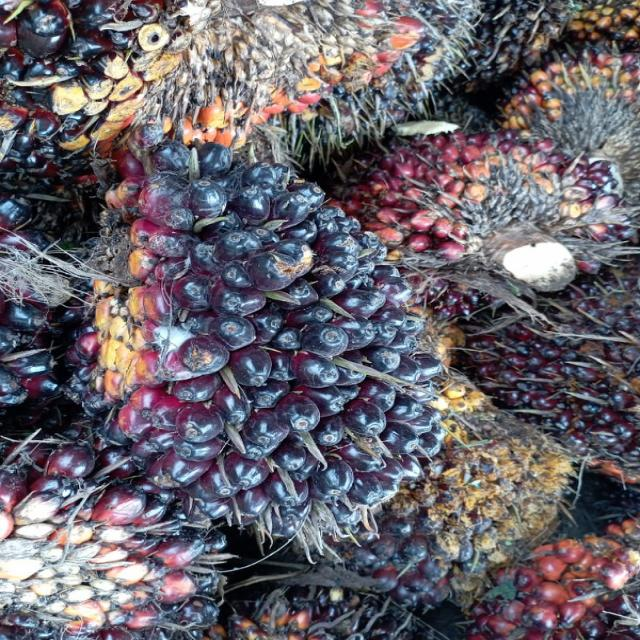fraksi 00: (85, 133, 457, 538)
fraksi 1: (354, 79, 614, 296)
